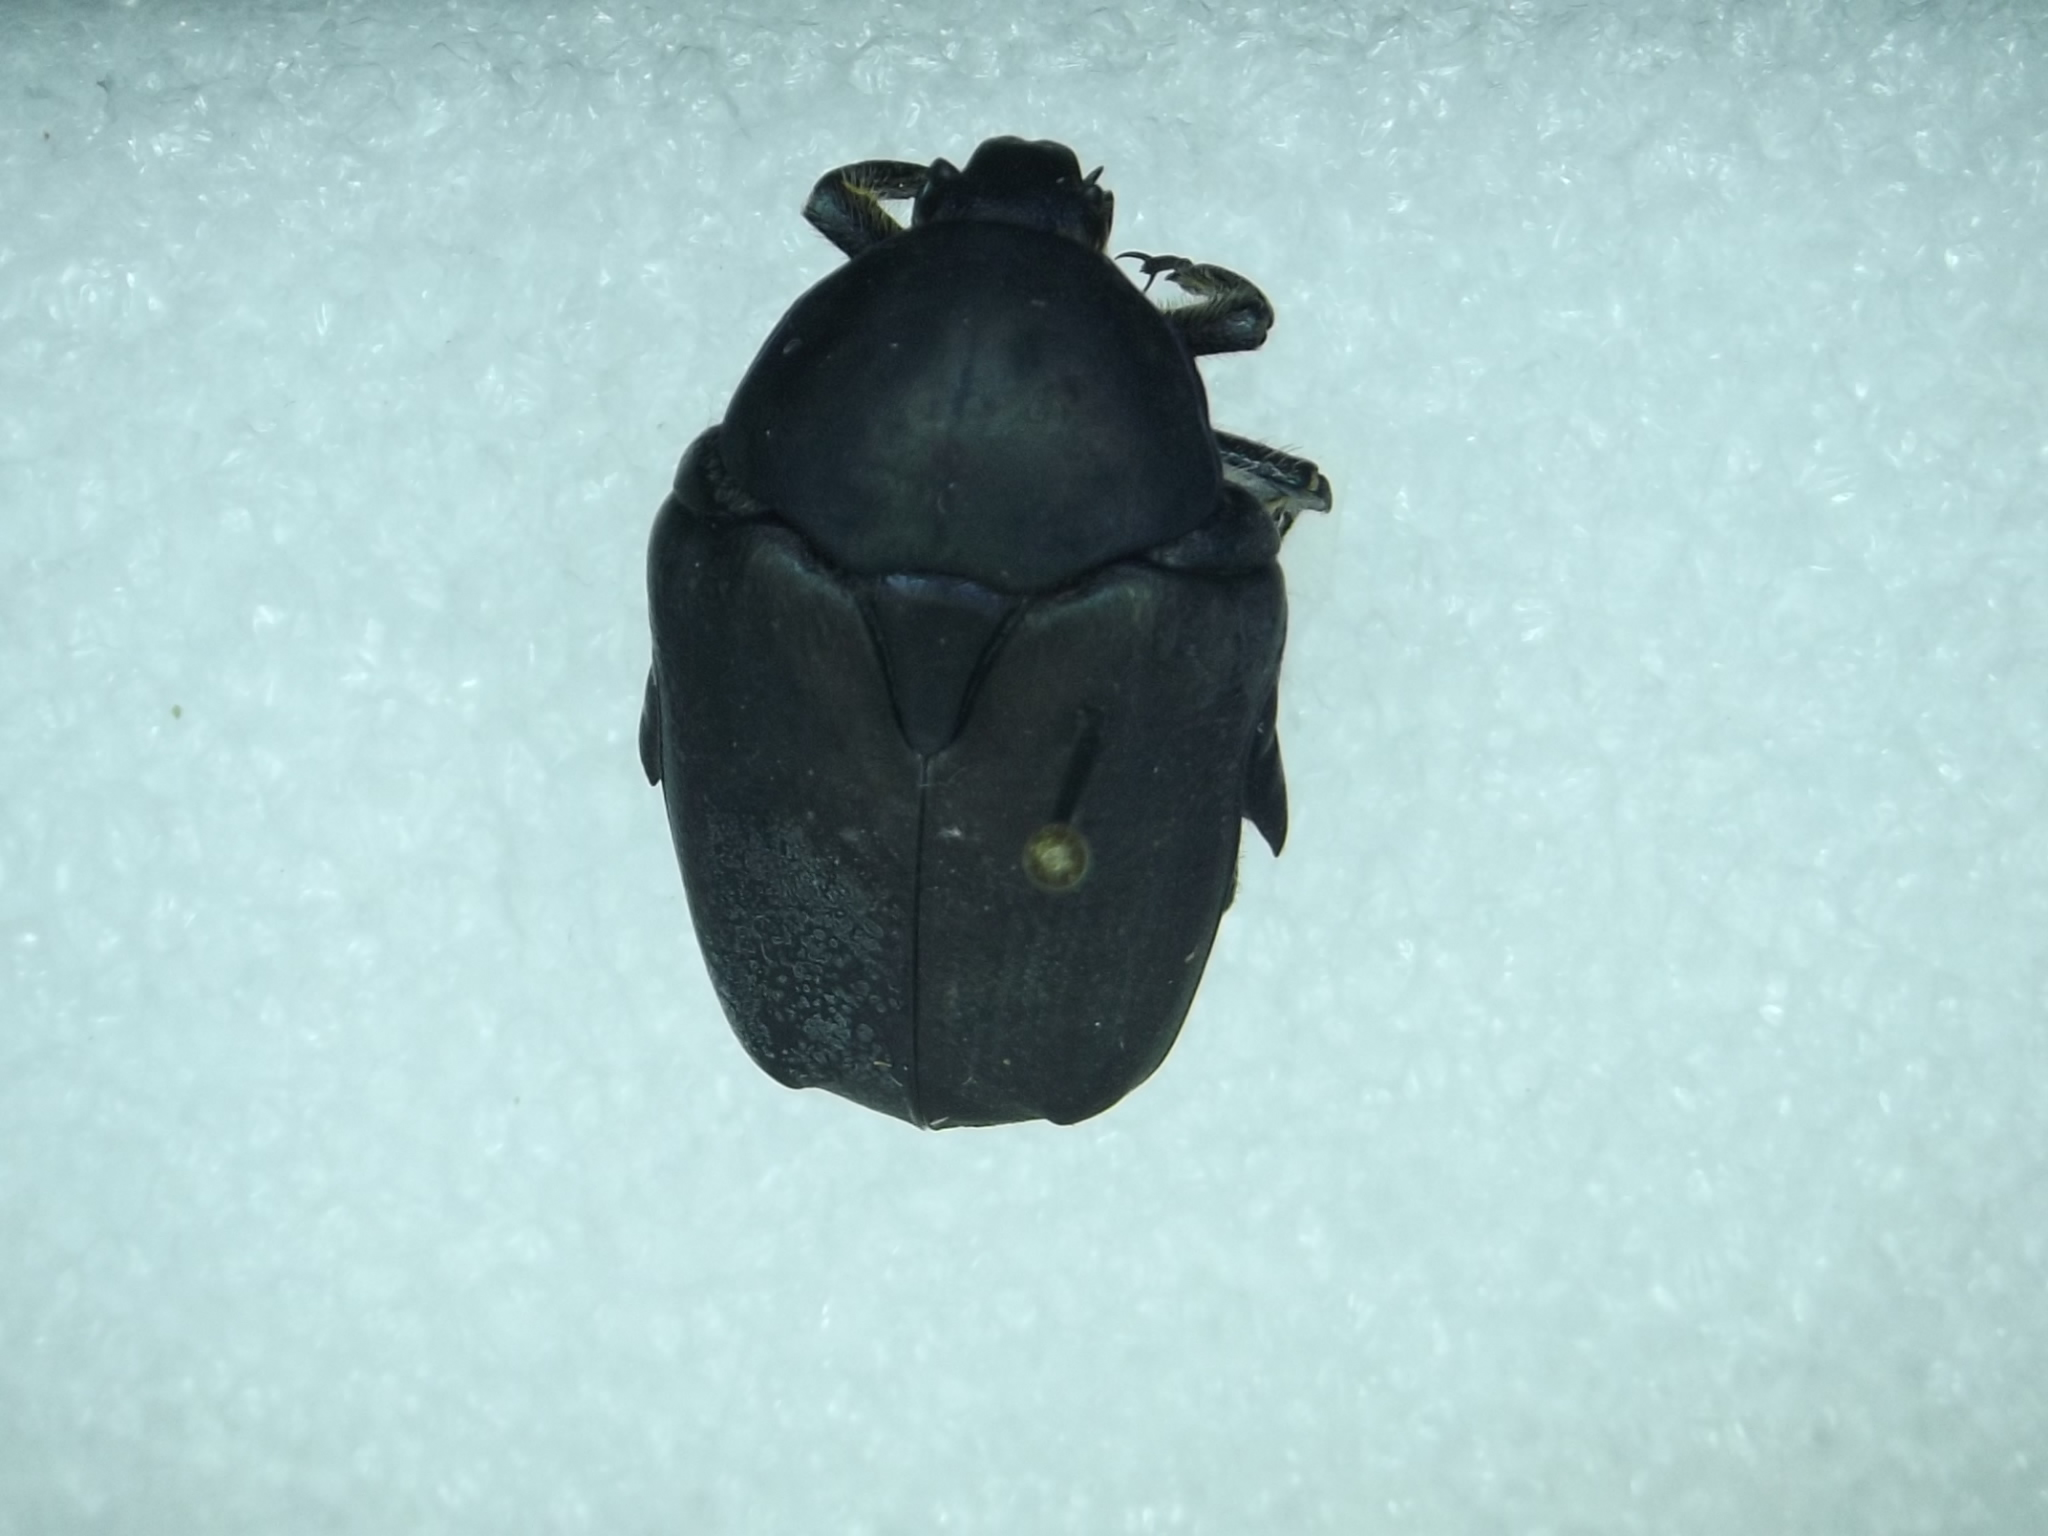Protaetia_afflicta: (613, 118, 1343, 1139)
